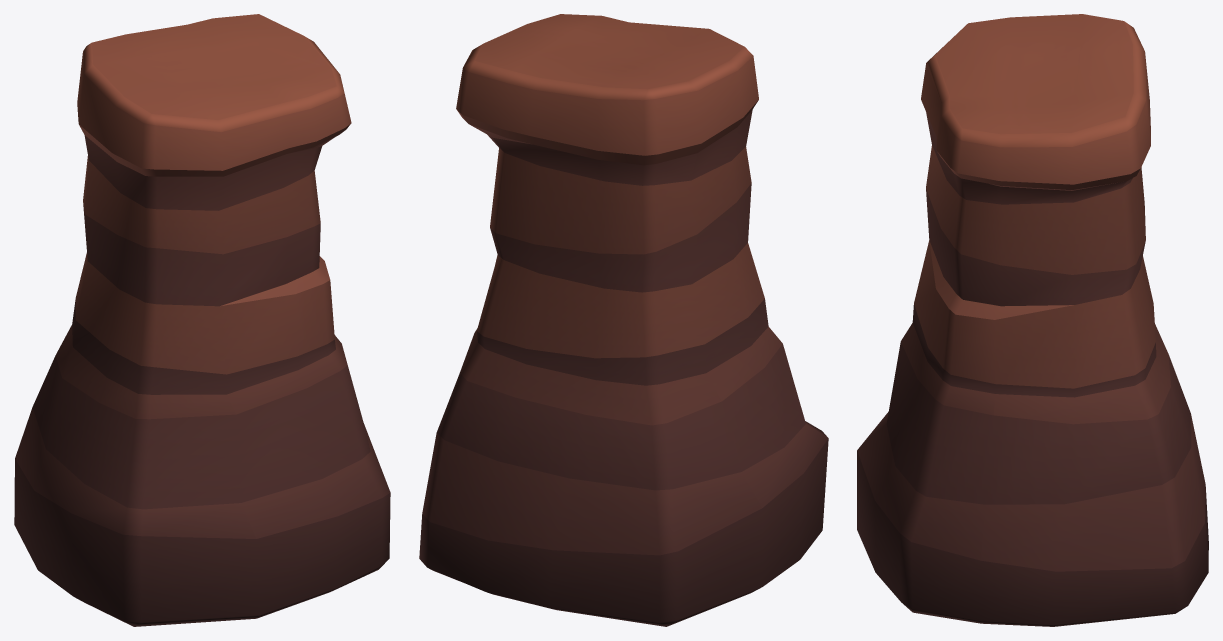
Rendered from rock_formation_03.fbx.
3 views of the same model, side by side, from view 1: azimuth 30°, elevation 25°; view 2: azimuth 150°, elevation 25°; view 3: azimuth 270°, elevation 25° (orthographic). The views are drawn at different scales.
Visible parts, largest first — view 1: rock_formation_03; view 2: rock_formation_03; view 3: rock_formation_03.
Part boxes in pixels (x1,y1,x2,y2): rock_formation_03: [14, 14, 390, 626]; rock_formation_03: [419, 14, 828, 626]; rock_formation_03: [857, 14, 1208, 626].
Size of the model in its own units: 529 by 808 by 513.
